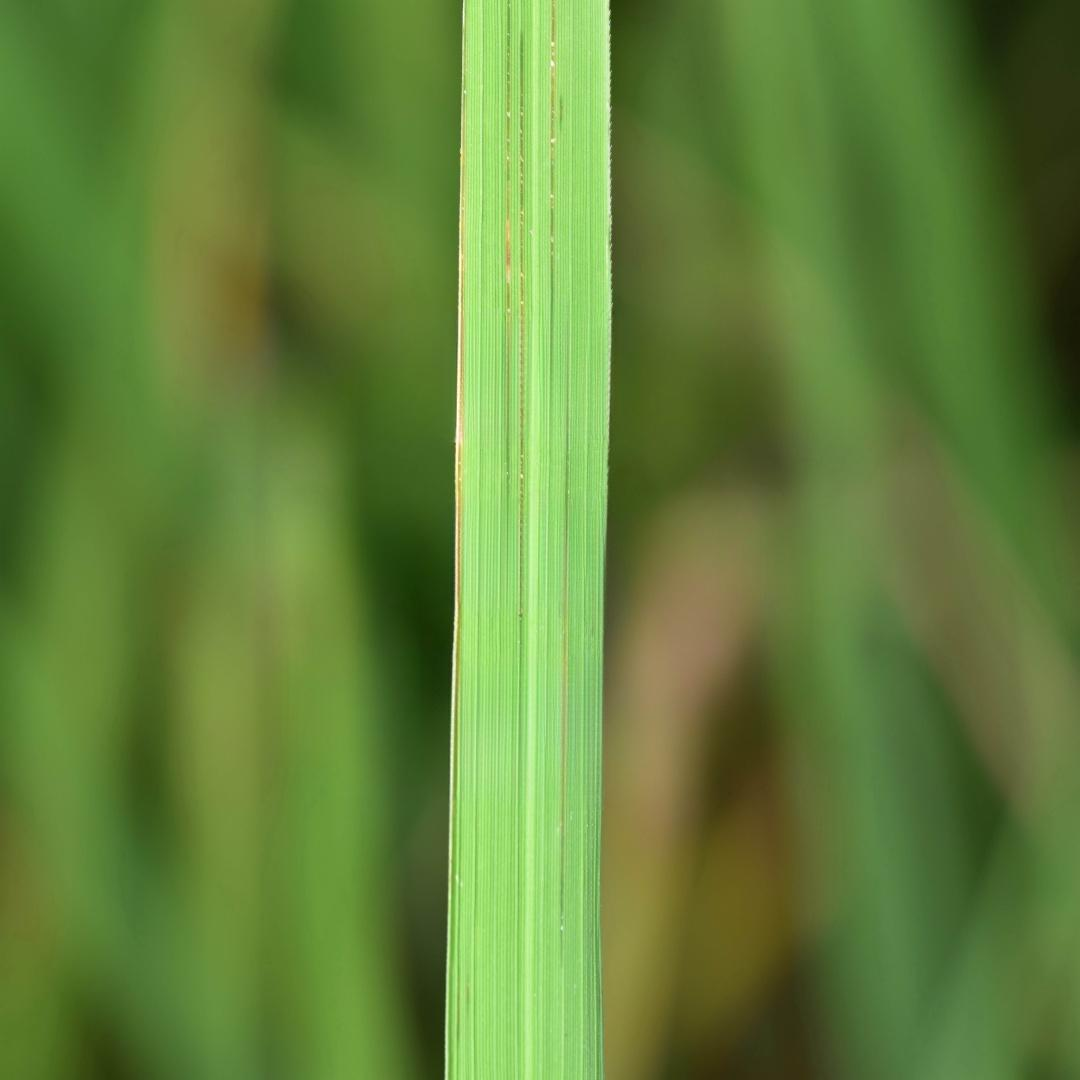BLS: (456, 94, 467, 721), (562, 424, 571, 926), (519, 34, 526, 664), (506, 0, 511, 590), (549, 1, 555, 430)
LEAF: (445, 0, 610, 1079)
